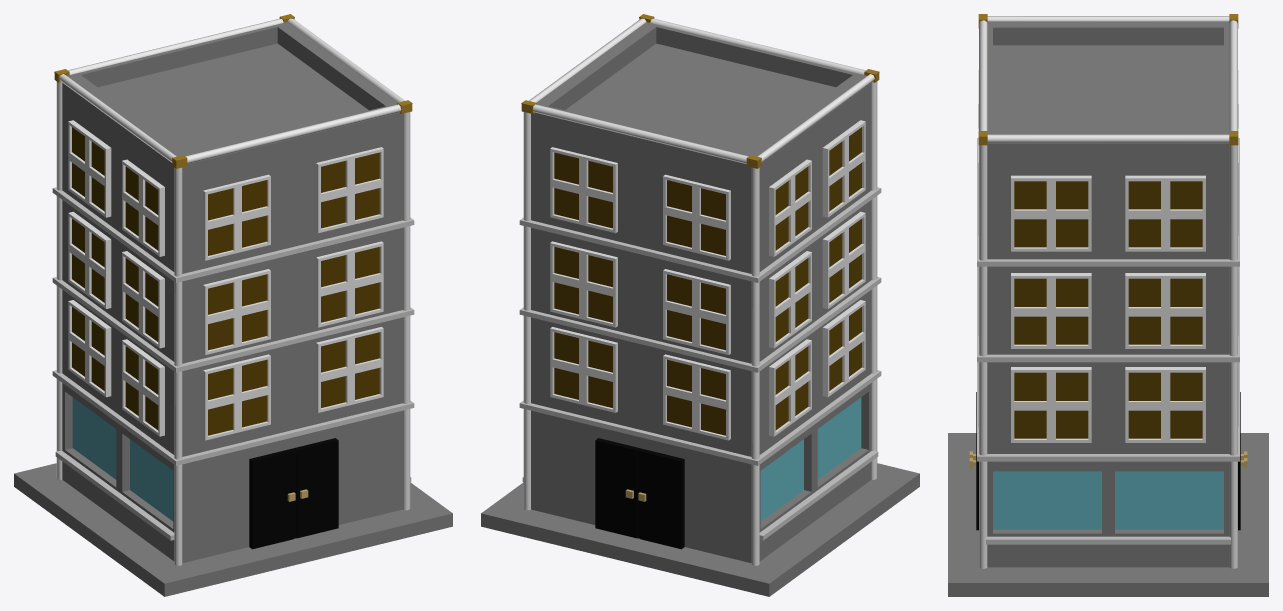
File: House16.fbx
3 renders of one model, left to right at view 1: azimuth 30°, elevation 25°; view 2: azimuth 150°, elevation 25°; view 3: azimuth 270°, elevation 25°, orthographic. The views are drawn at different scales.
Visible parts, largest first — view 1: House.016; view 2: House.016; view 3: House.016.
Part boxes in pixels (x1,y1,x2,y2): House.016: (14, 14, 452, 596); House.016: (481, 14, 919, 596); House.016: (948, 14, 1268, 596).
Bounding box in the file's own units: 738 × 1025 × 667.
